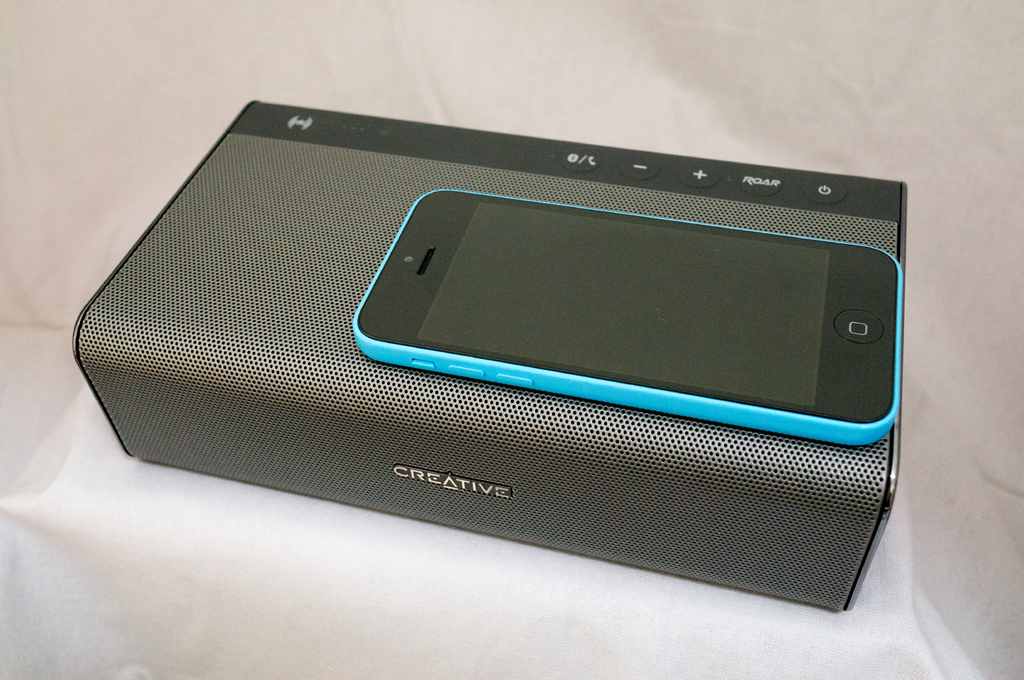mobile phone: (322, 131, 852, 458)
